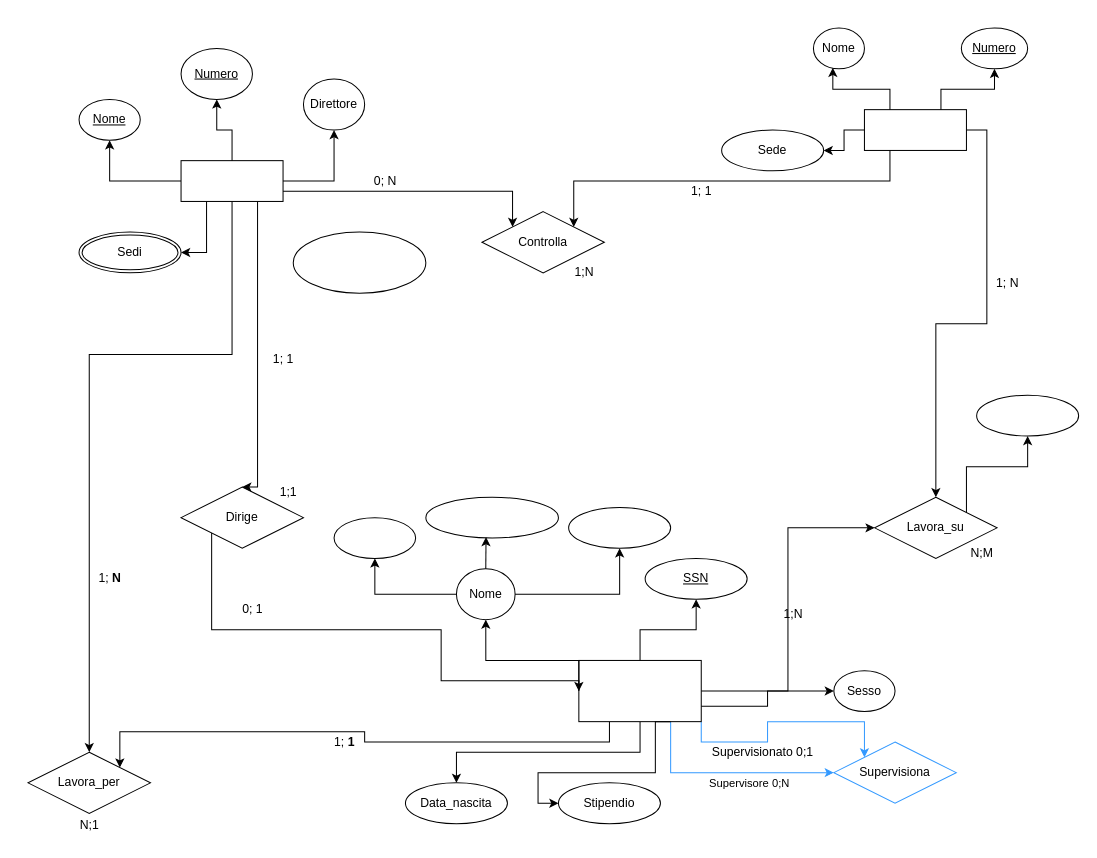
Some shapes in this 1097 by 858 pixel diagram are drawn without their labels. The centre of each missing label's shape, as x and y in pixels:
"Cognome" goes at [619,527].
"Data_inizio_incarico" goes at [359,262].
"DIPARTIMENTO" goes at [231,180].
"DIPENDENTE/ IMPIEGATO" goes at [639,690].
"Iniz_secondo_nome" goes at [491,517].
"Nome_batt" goes at [374,537].
"Ore" goes at [1027,415].
"PROGETTI" goes at [914,129].
